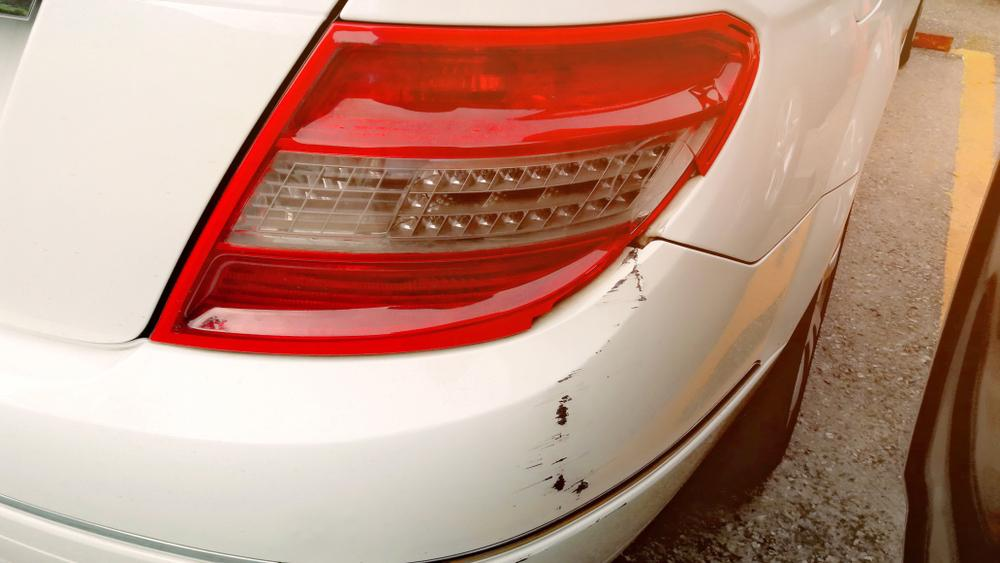lamp broken: (146, 11, 762, 355)
scratch: (545, 246, 656, 504)
